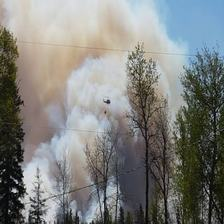fire: (71, 53, 148, 145)
